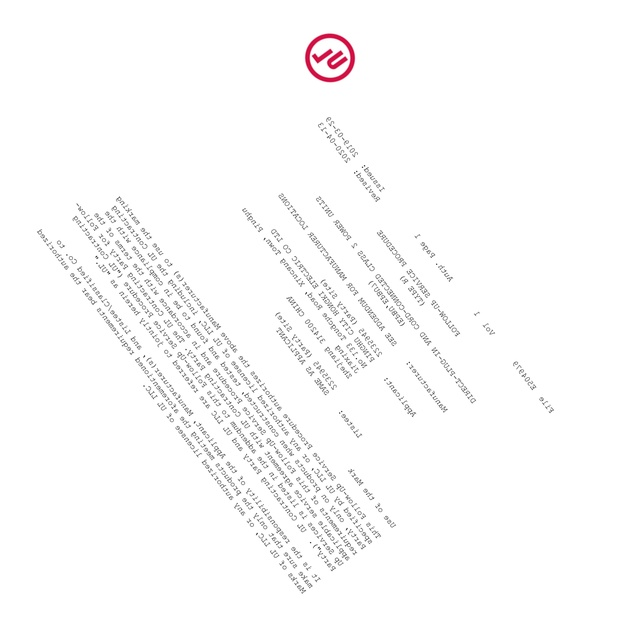ul: (306, 33, 354, 81)
